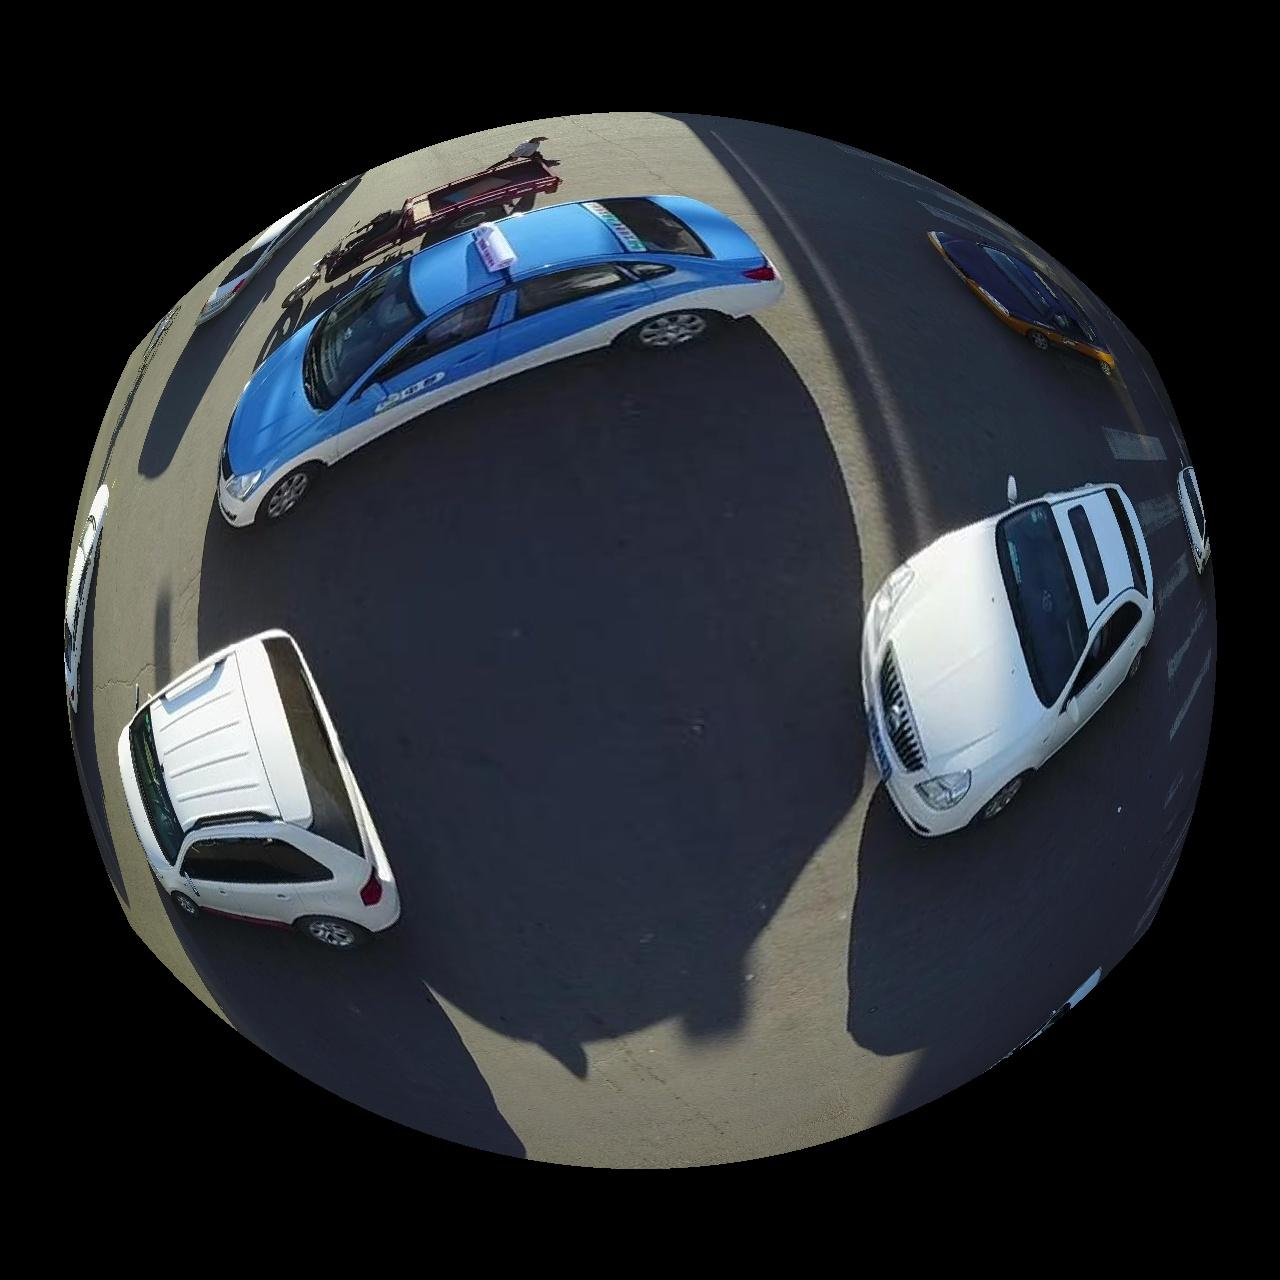cars: (216, 195, 784, 526), (863, 486, 1157, 837), (117, 631, 399, 951)
